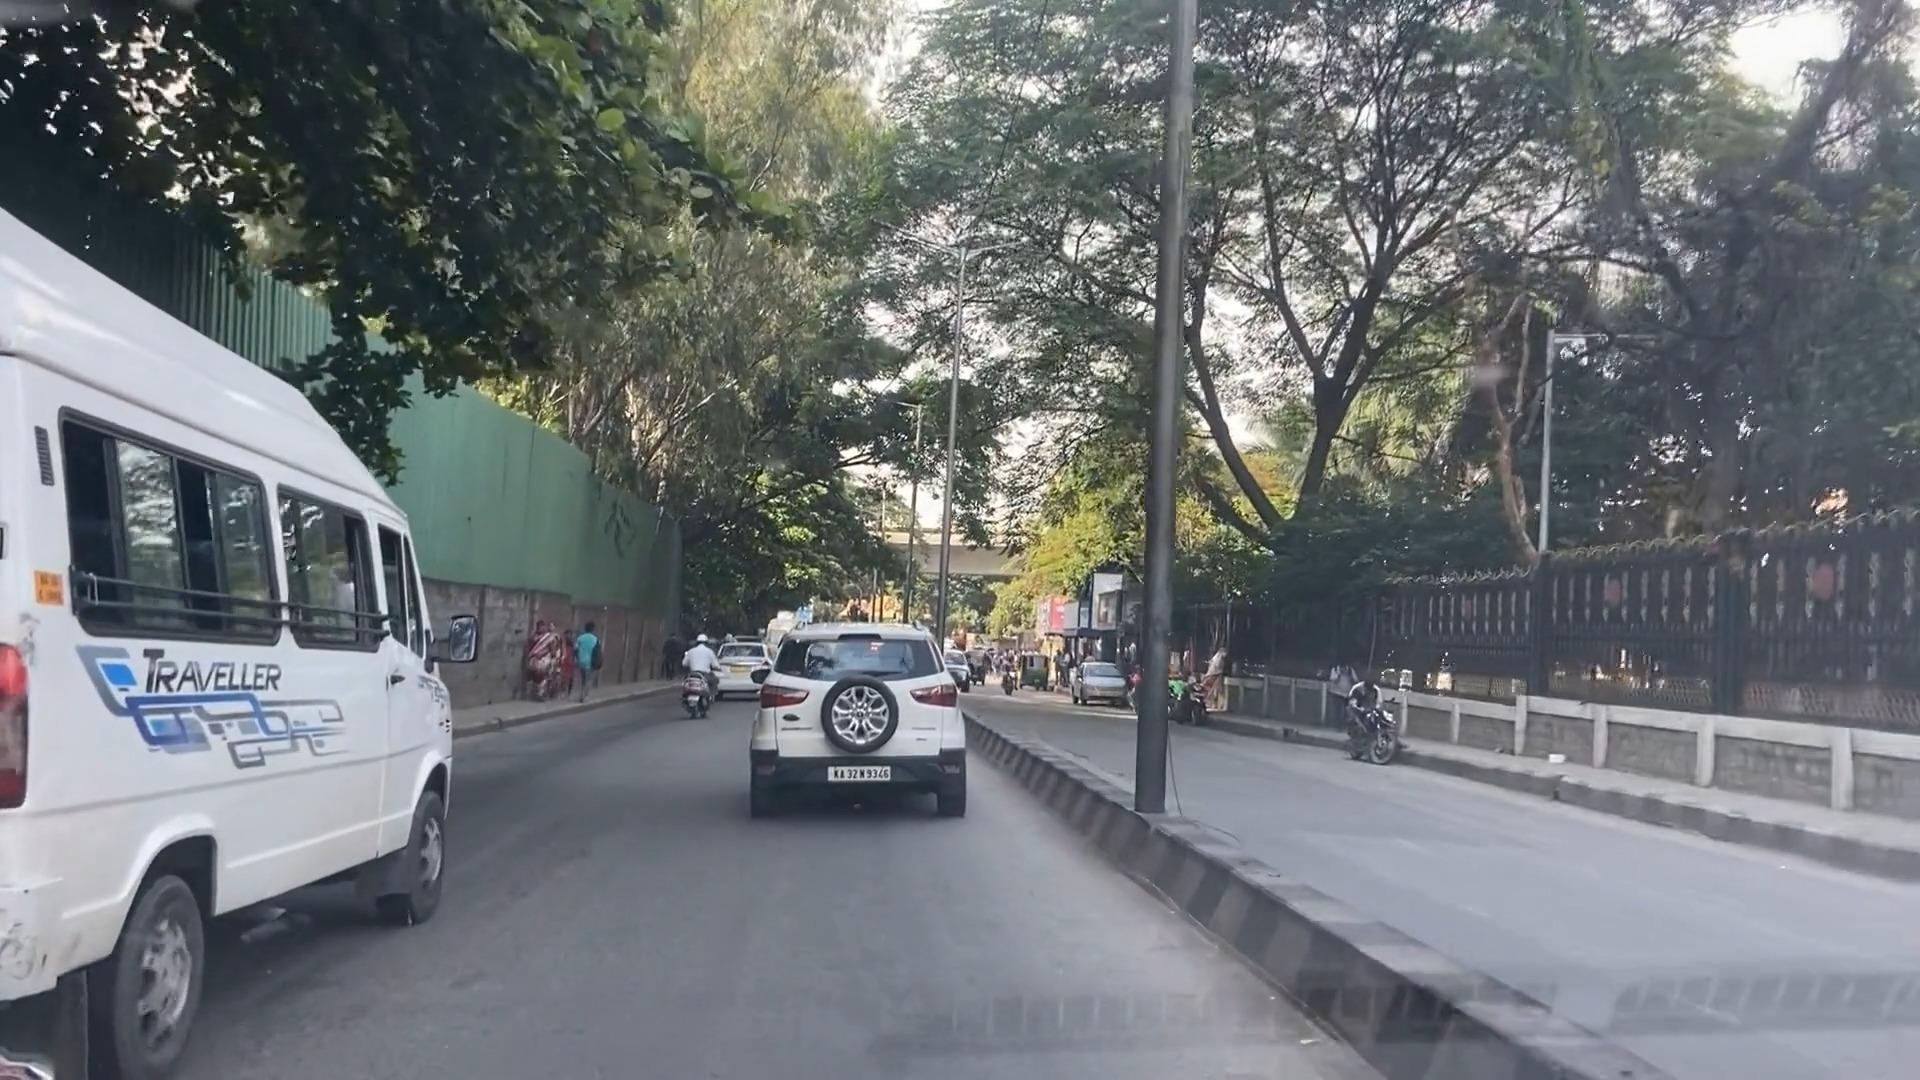HMV: (8, 225, 459, 1005)
LMV: (766, 600, 977, 820)
